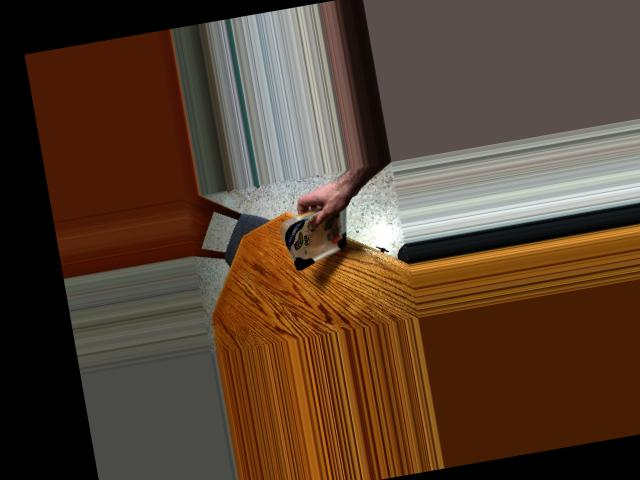cheese: (275, 204, 356, 266)
